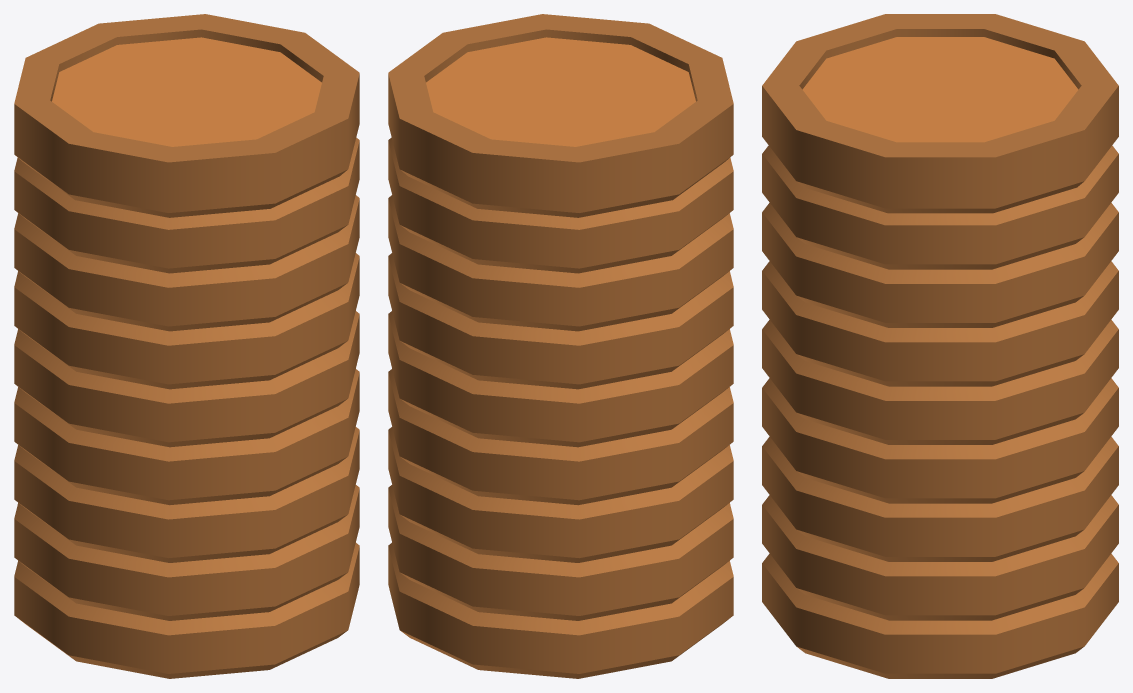
The model's file is Coin_Tower_05.fbx.
The picture shows the model from 3 angles, left to right: view 1: azimuth 30°, elevation 25°; view 2: azimuth 150°, elevation 25°; view 3: azimuth 270°, elevation 25°; orthographic projection.
Visible parts, largest first — view 1: Coin_Tower_05; view 2: Coin_Tower_05; view 3: Coin_Tower_05.
Boxes of the visible parts, left/top/right/bottom form: Coin_Tower_05: left=14, top=14, right=359, bottom=678; Coin_Tower_05: left=388, top=14, right=733, bottom=678; Coin_Tower_05: left=762, top=14, right=1118, bottom=678.
Size of the model in its own units: 0.0413 by 0.0707 by 0.0435.
